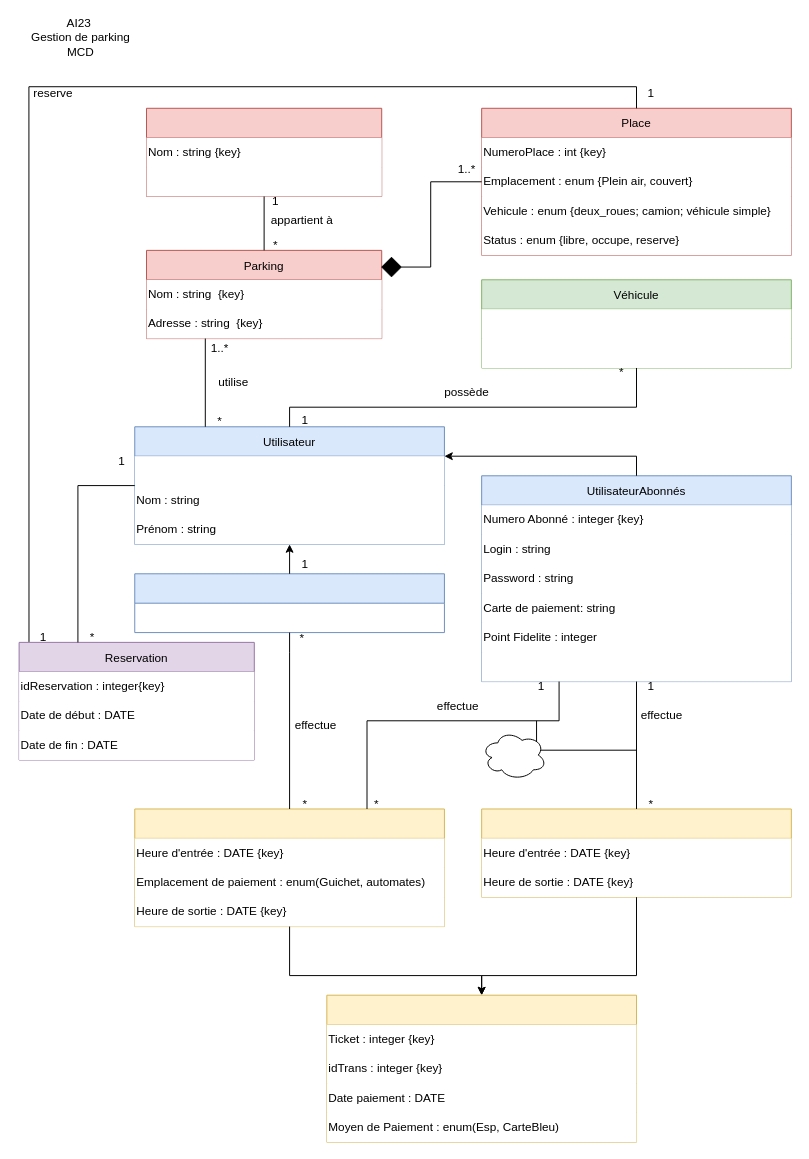
Some shapes in this 809 by 1159 pixel diagram are drawn without their labels. Here are the shapes that lost their labels. From the top down, the box of each, then its label:
(146, 107, 382, 196): Zone
(146, 167, 381, 196): Prix : integer
(481, 309, 791, 338): Immatriculation : string {key}
(481, 338, 791, 368): Type : enum {deux_roues; camion; véhicule simple}
(134, 456, 444, 485): ID : integer {key}
(134, 573, 444, 633): UtilisateurOccasionnel
(481, 652, 791, 681): Actif : boolean
(481, 730, 546, 780): OR
(134, 808, 444, 927): TransactionsOccasionnel
(481, 808, 791, 897): Transactions Abonnés
(326, 994, 637, 1142): Transactions
